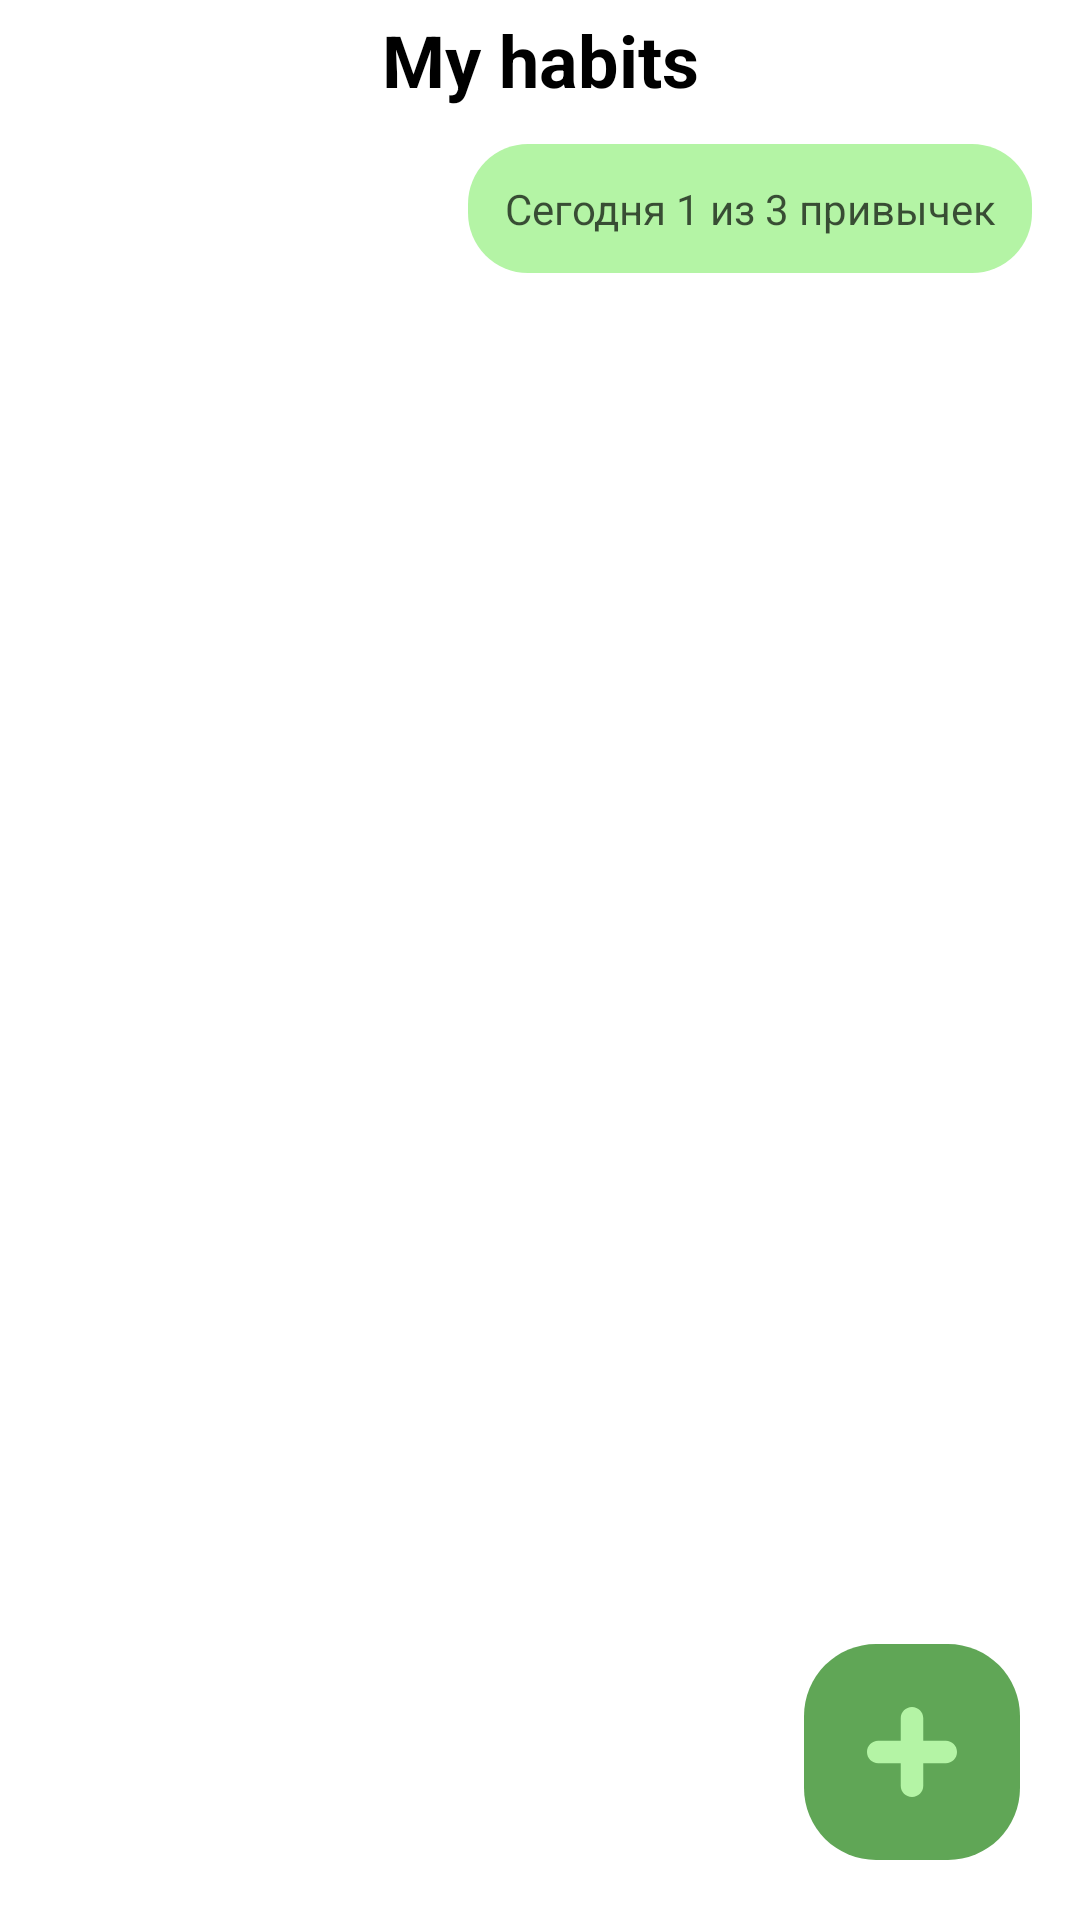

Icon click points for this 1080px×1920px phone screenshot, format point (x, y):
Добавить привычку: point (912, 1752)
